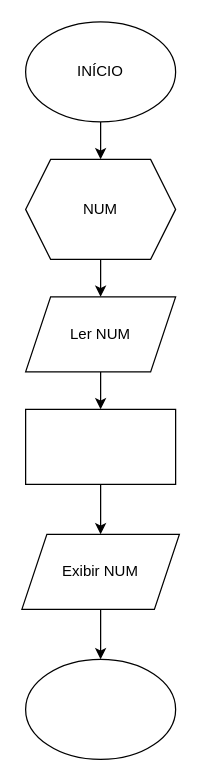
Some shapes in this 201 by 781 pixel diagram are drawn without their labels. Here are the shapes that lost their labels. From the top down, the centre of each, then its label:
At point 100,446: "NUM = NUM * 2".
At point 100,708: "FIM".
